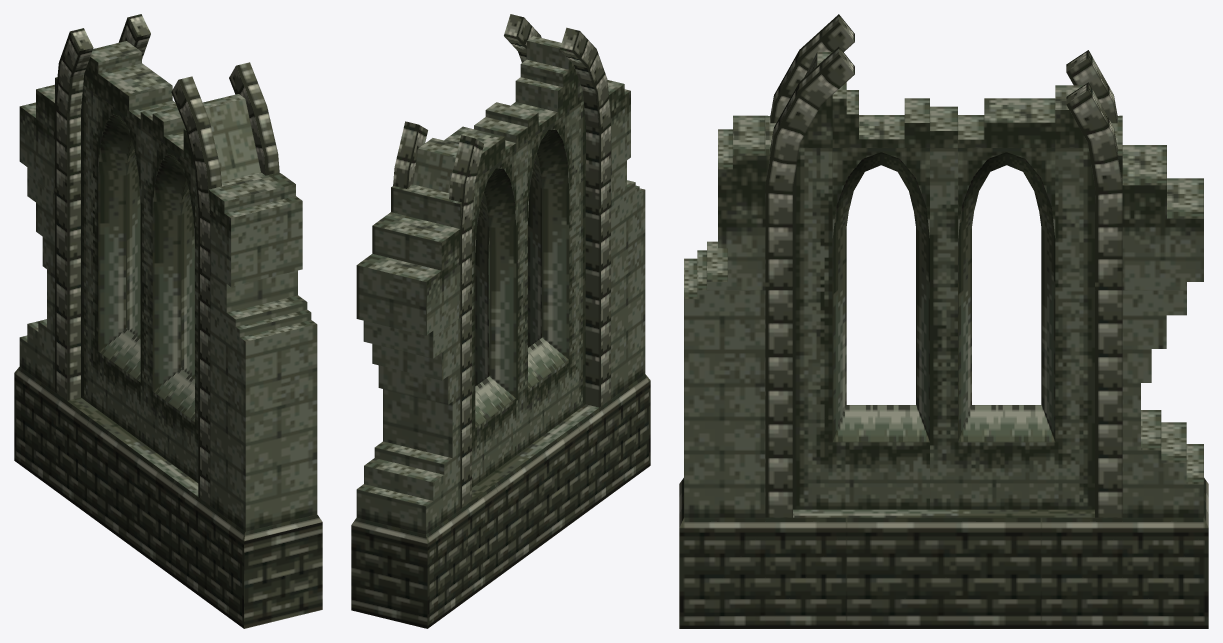
File: ObjMD_Daiseido_Remain_Wall_C.FBX
3 views of the same model, side by side, from view 1: azimuth 30°, elevation 25°; view 2: azimuth 150°, elevation 25°; view 3: azimuth 270°, elevation 25° (orthographic). The views are drawn at different scales.
Visible parts, largest first — view 1: ObjMD_Daiseido_Remain_Wall_C; view 2: ObjMD_Daiseido_Remain_Wall_C; view 3: ObjMD_Daiseido_Remain_Wall_C.
Boxes of the visible parts, x1,y1,x2,y2 form: ObjMD_Daiseido_Remain_Wall_C: (14, 14, 322, 628); ObjMD_Daiseido_Remain_Wall_C: (351, 14, 650, 628); ObjMD_Daiseido_Remain_Wall_C: (679, 14, 1208, 628).
Size of the model in its own units: 141 by 851 by 712.
